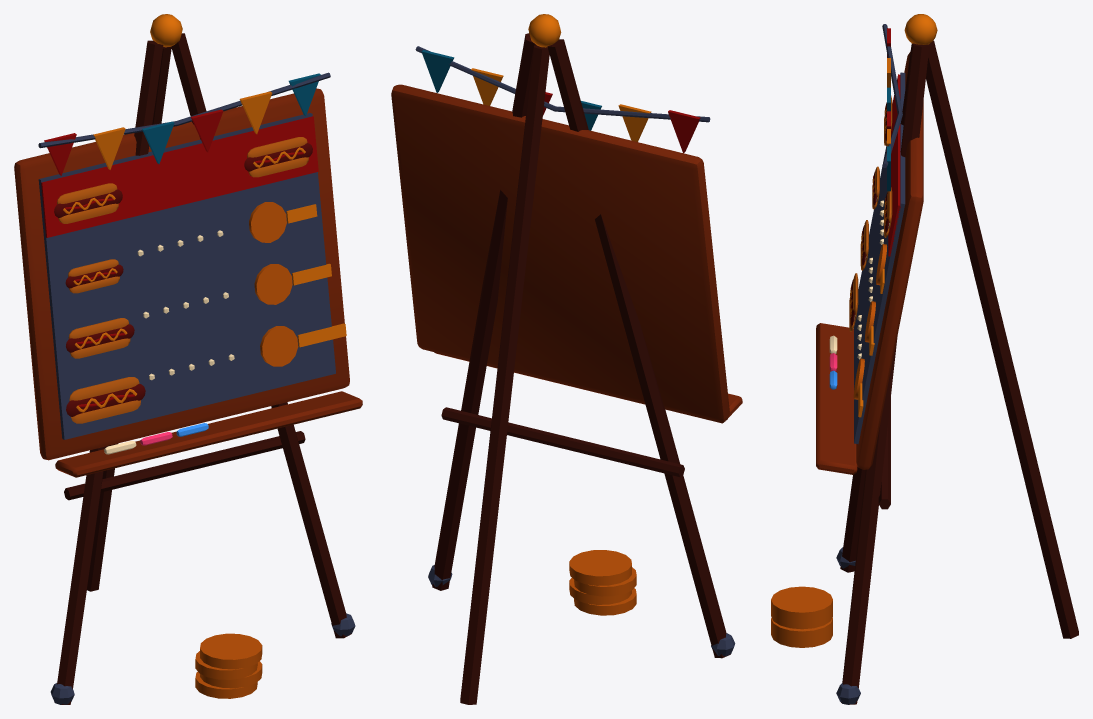
File: FeeBoard.obj
3 renders of one model, left to right at view 1: azimuth 30°, elevation 25°; view 2: azimuth 150°, elevation 25°; view 3: azimuth 270°, elevation 25°, orthographic.
Parts seen in each view (by area): view 1: FeeBoard; view 2: FeeBoard; view 3: FeeBoard.
Part boxes in pixels (<box>): FeeBoard: <box>14,14,362,704</box>; FeeBoard: <box>391,14,742,704</box>; FeeBoard: <box>771,14,1078,704</box>.
Bounding box in the file's own units: 3.4 × 6.63 × 2.98.
